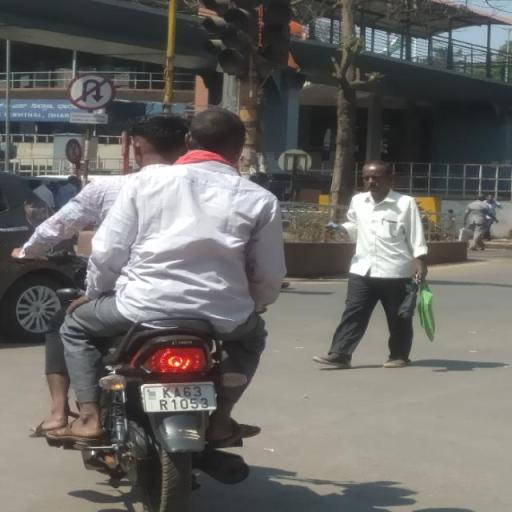bike: (12, 104, 292, 512)
numberplate: (140, 380, 222, 414)
withouthelmet: (132, 116, 188, 164), (192, 112, 246, 156)
